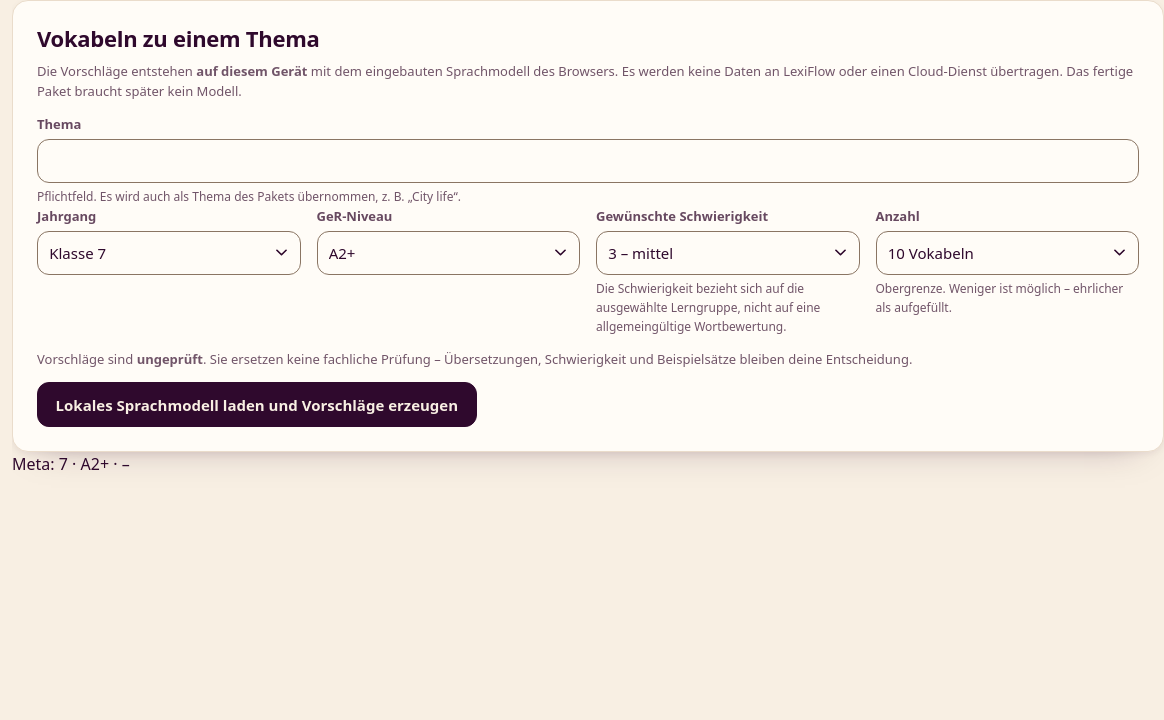
Test: Eingaben › verlangt ein Thema
Click the button "Lokales Sprachmodell laden und Vorschläge erzeugen": (257, 405) [37, 382, 477, 427]
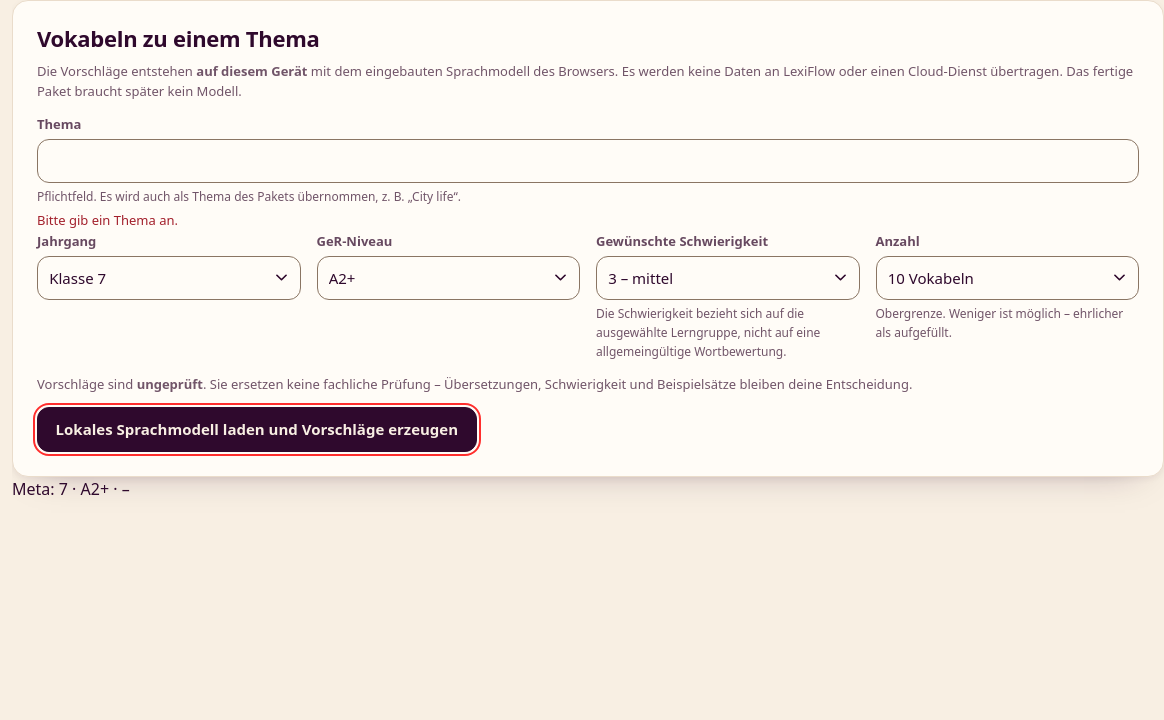
Now the text "Bitte gib ein Thema an." is shown, box [37, 211, 178, 229]
